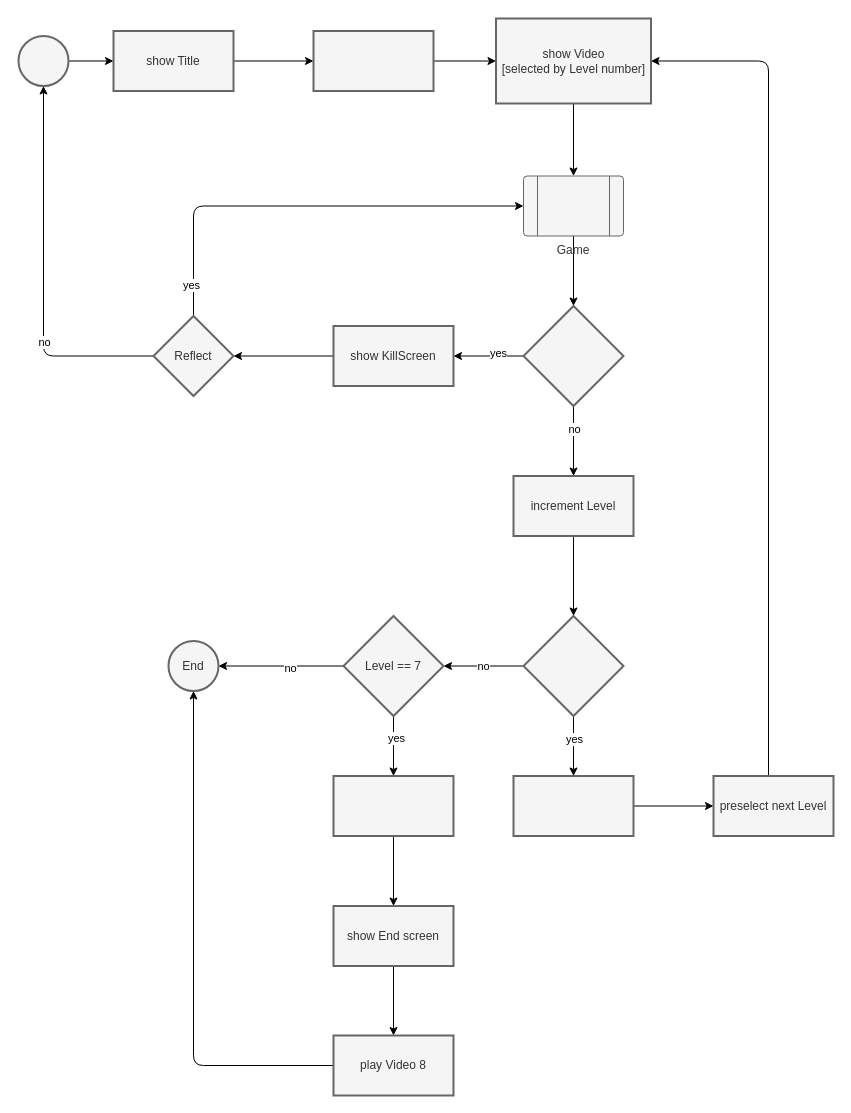
Some shapes in this 851 by 1113 pixel diagram are drawn without their labels. The box of each missing label's shape, as (x1, y1, x2, y2) in pixels:
Level <= 6: (522, 614, 624, 716)
play Video 7: (332, 774, 454, 836)
Player lost: (522, 304, 624, 406)
select next Video: (512, 774, 634, 836)
show Menu: (312, 30, 434, 92)
Start: (17, 34, 69, 86)
